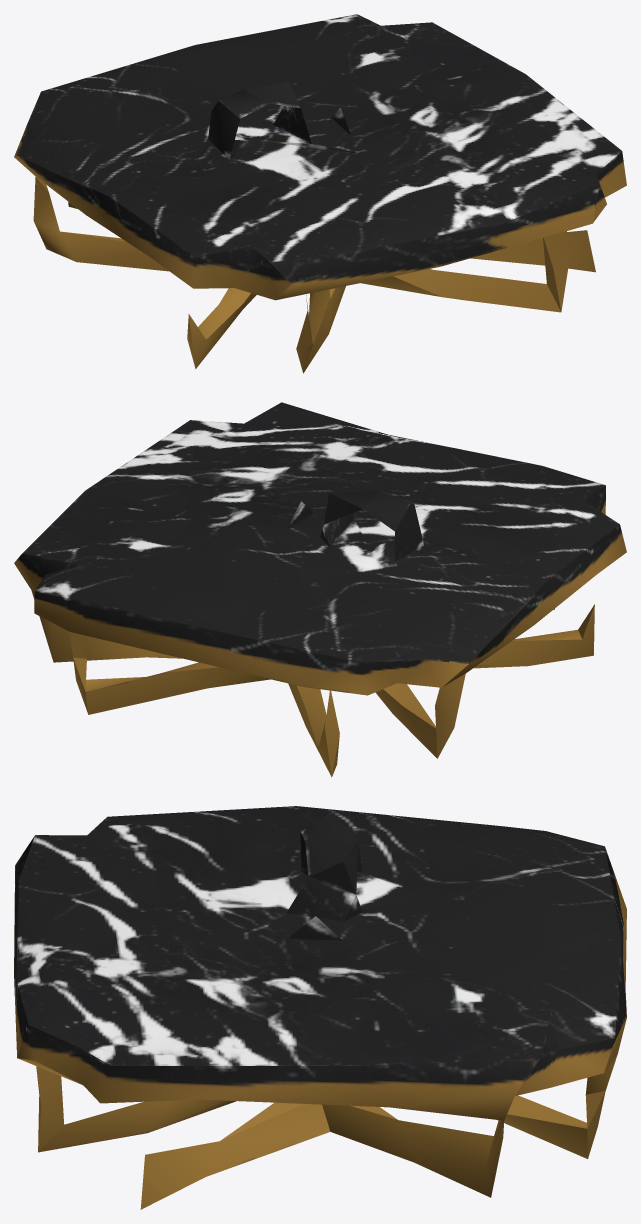
Rendered from penthouse-marble-coffee-table.glb.
3 renders of one model, top to bottom at view 1: azimuth 30°, elevation 25°; view 2: azimuth 150°, elevation 25°; view 3: azimuth 270°, elevation 25°, orthographic. The views are drawn at different scales.
Parts seen in each view (by area): view 1: geometry_0; view 2: geometry_0; view 3: geometry_0.
Part boxes in pixels (x1=…): geometry_0: x1=14, y1=14, x2=626, y2=373; geometry_0: x1=14, y1=402, x2=626, y2=777; geometry_0: x1=14, y1=806, x2=626, y2=1209.
Size of the model in its own units: 1 by 0.3937 by 0.9807.
Materials: 1 (1 with a texture image).
